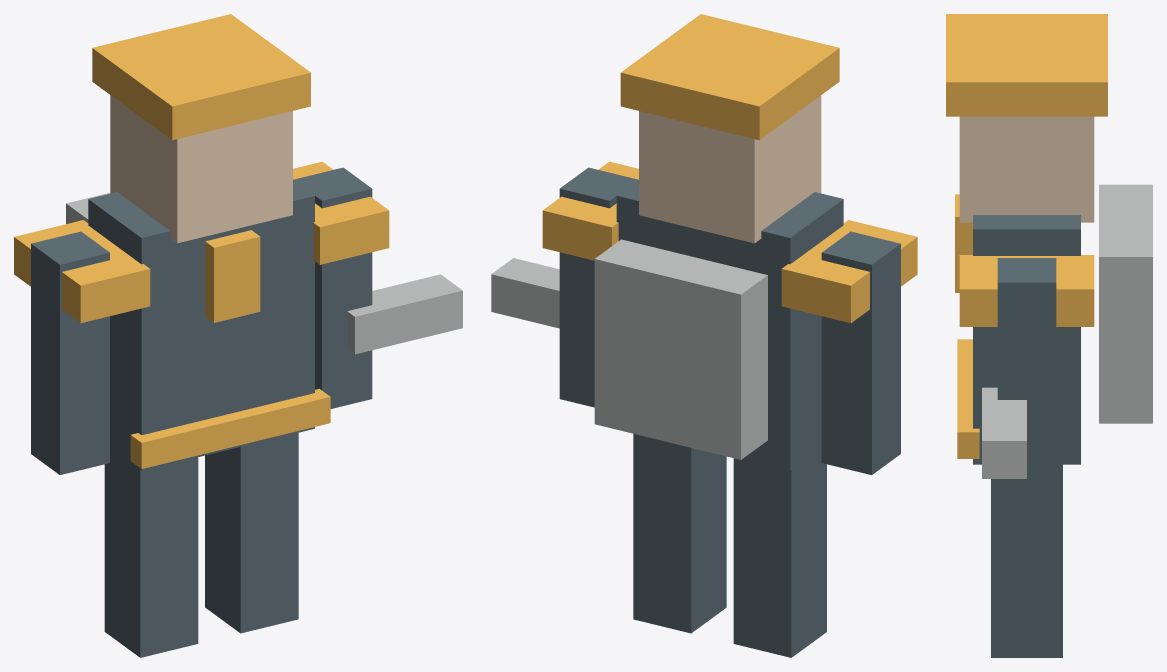
The model's file is 18_kael_starfall_smith_from_deep.glb.
3 views of the same model, side by side, from view 1: azimuth 30°, elevation 25°; view 2: azimuth 150°, elevation 25°; view 3: azimuth 270°, elevation 25° (orthographic).
Parts seen in each view (by area): view 1: Kael Starfall, Smith from Deep; view 2: Kael Starfall, Smith from Deep; view 3: Kael Starfall, Smith from Deep.
Boxes of the visible parts, x1,y1,x2,y2 form: Kael Starfall, Smith from Deep: [14, 14, 462, 657]; Kael Starfall, Smith from Deep: [491, 14, 917, 657]; Kael Starfall, Smith from Deep: [946, 14, 1152, 657].
Bounding box in the file's own units: 1.02 × 1.39 × 0.4578.
